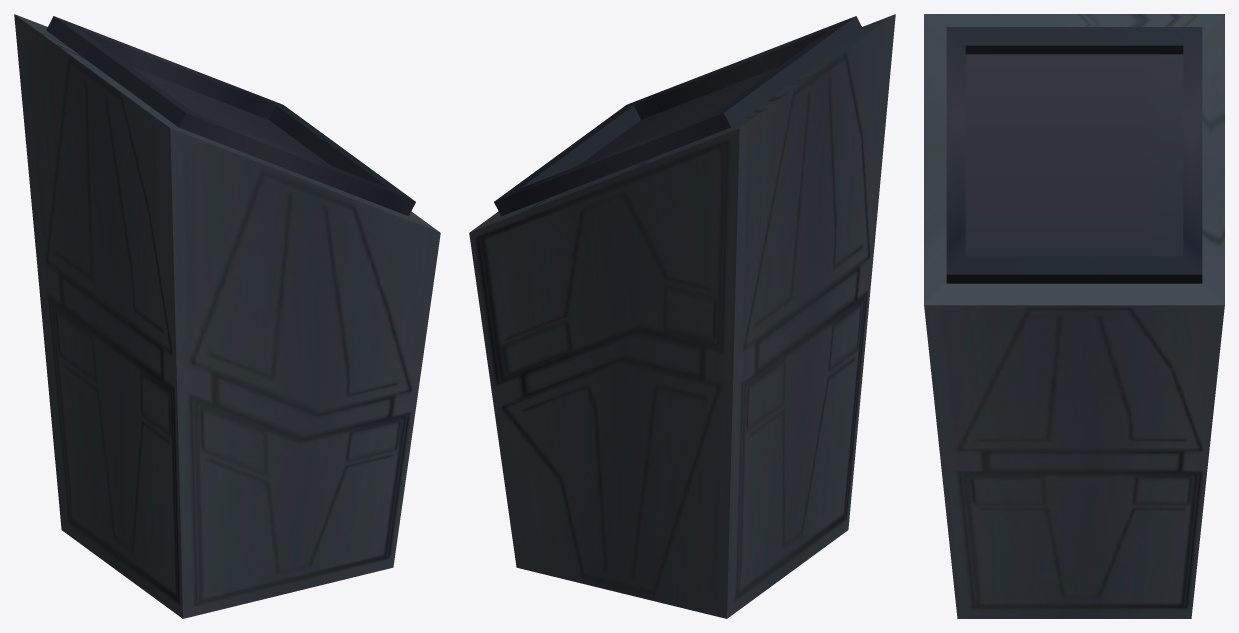
File: Puzzle_Console.fbx
3 renders of one model, left to right at view 1: azimuth 30°, elevation 25°; view 2: azimuth 150°, elevation 25°; view 3: azimuth 270°, elevation 25°, orthographic. The views are drawn at different scales.
Parts seen in each view (by area): view 1: pCube1; view 2: pCube1; view 3: pCube1.
Boxes of the visible parts, x1,y1,x2,y2 form: pCube1: [14, 14, 440, 618]; pCube1: [469, 14, 895, 618]; pCube1: [924, 14, 1224, 618].
Size of the model in its own units: 1 by 1.8 by 1.
Materials: 1 (1 with a texture image).
